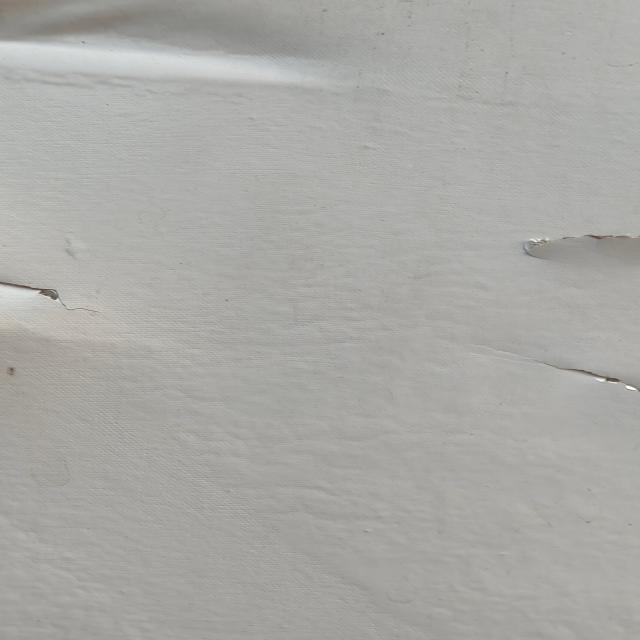Dents or Deformation: (1, 1, 404, 106)
Scratches: (1, 259, 139, 330), (491, 210, 640, 272), (522, 344, 640, 395)
